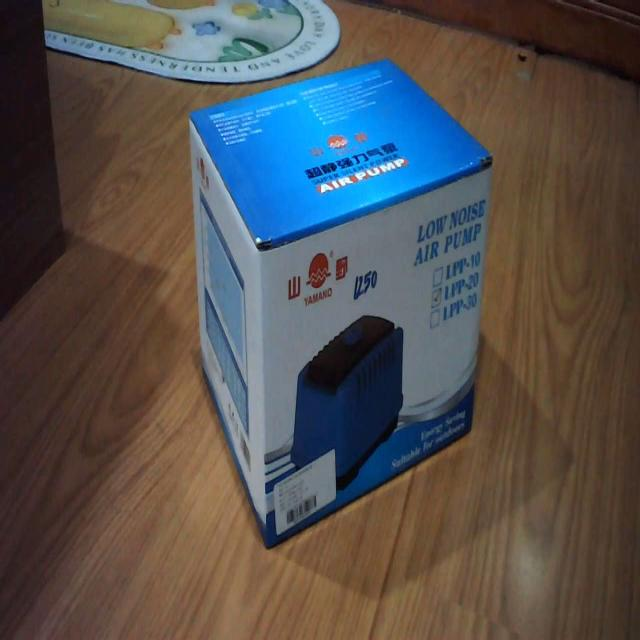YAMANO_LPP_20: (180, 44, 499, 562)
